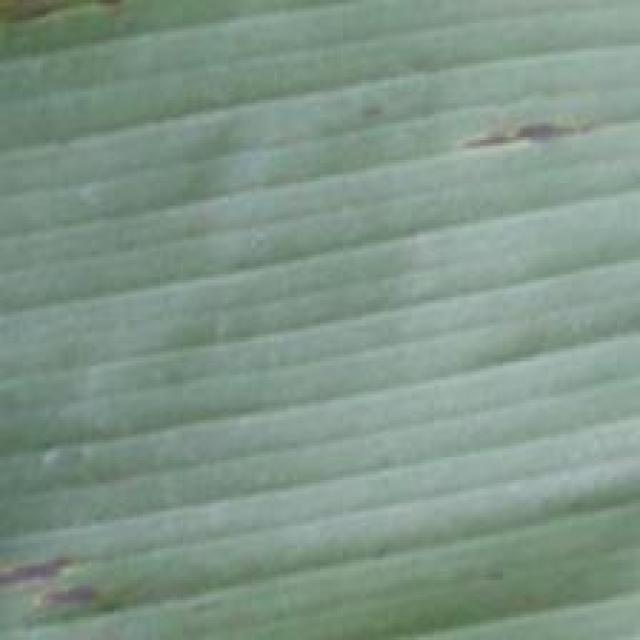Early_leaf_spot: (0, 537, 147, 640), (450, 91, 599, 178), (0, 0, 132, 61)
